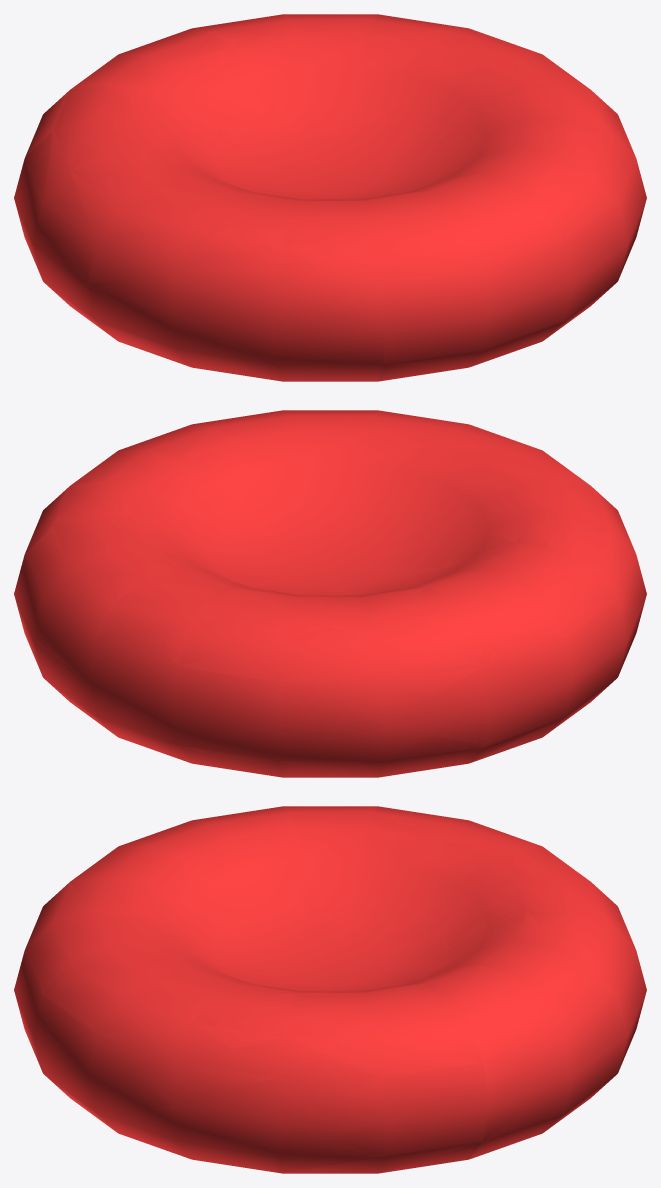
File: BloodCell_MODEL_0825_High_triangle.obj
The picture shows the model from 3 angles, top to bottom: view 1: azimuth 30°, elevation 25°; view 2: azimuth 150°, elevation 25°; view 3: azimuth 270°, elevation 25°; orthographic projection.
Parts seen in each view (by area): view 1: Cell_High_Triangle; view 2: Cell_High_Triangle; view 3: Cell_High_Triangle.
Part boxes in pixels (left/top/right/bottom): Cell_High_Triangle: left=14, top=14, right=646, bottom=381; Cell_High_Triangle: left=14, top=410, right=646, bottom=777; Cell_High_Triangle: left=14, top=806, right=646, bottom=1173.
Size of the model in its own units: 7.88 by 2.2 by 8.
